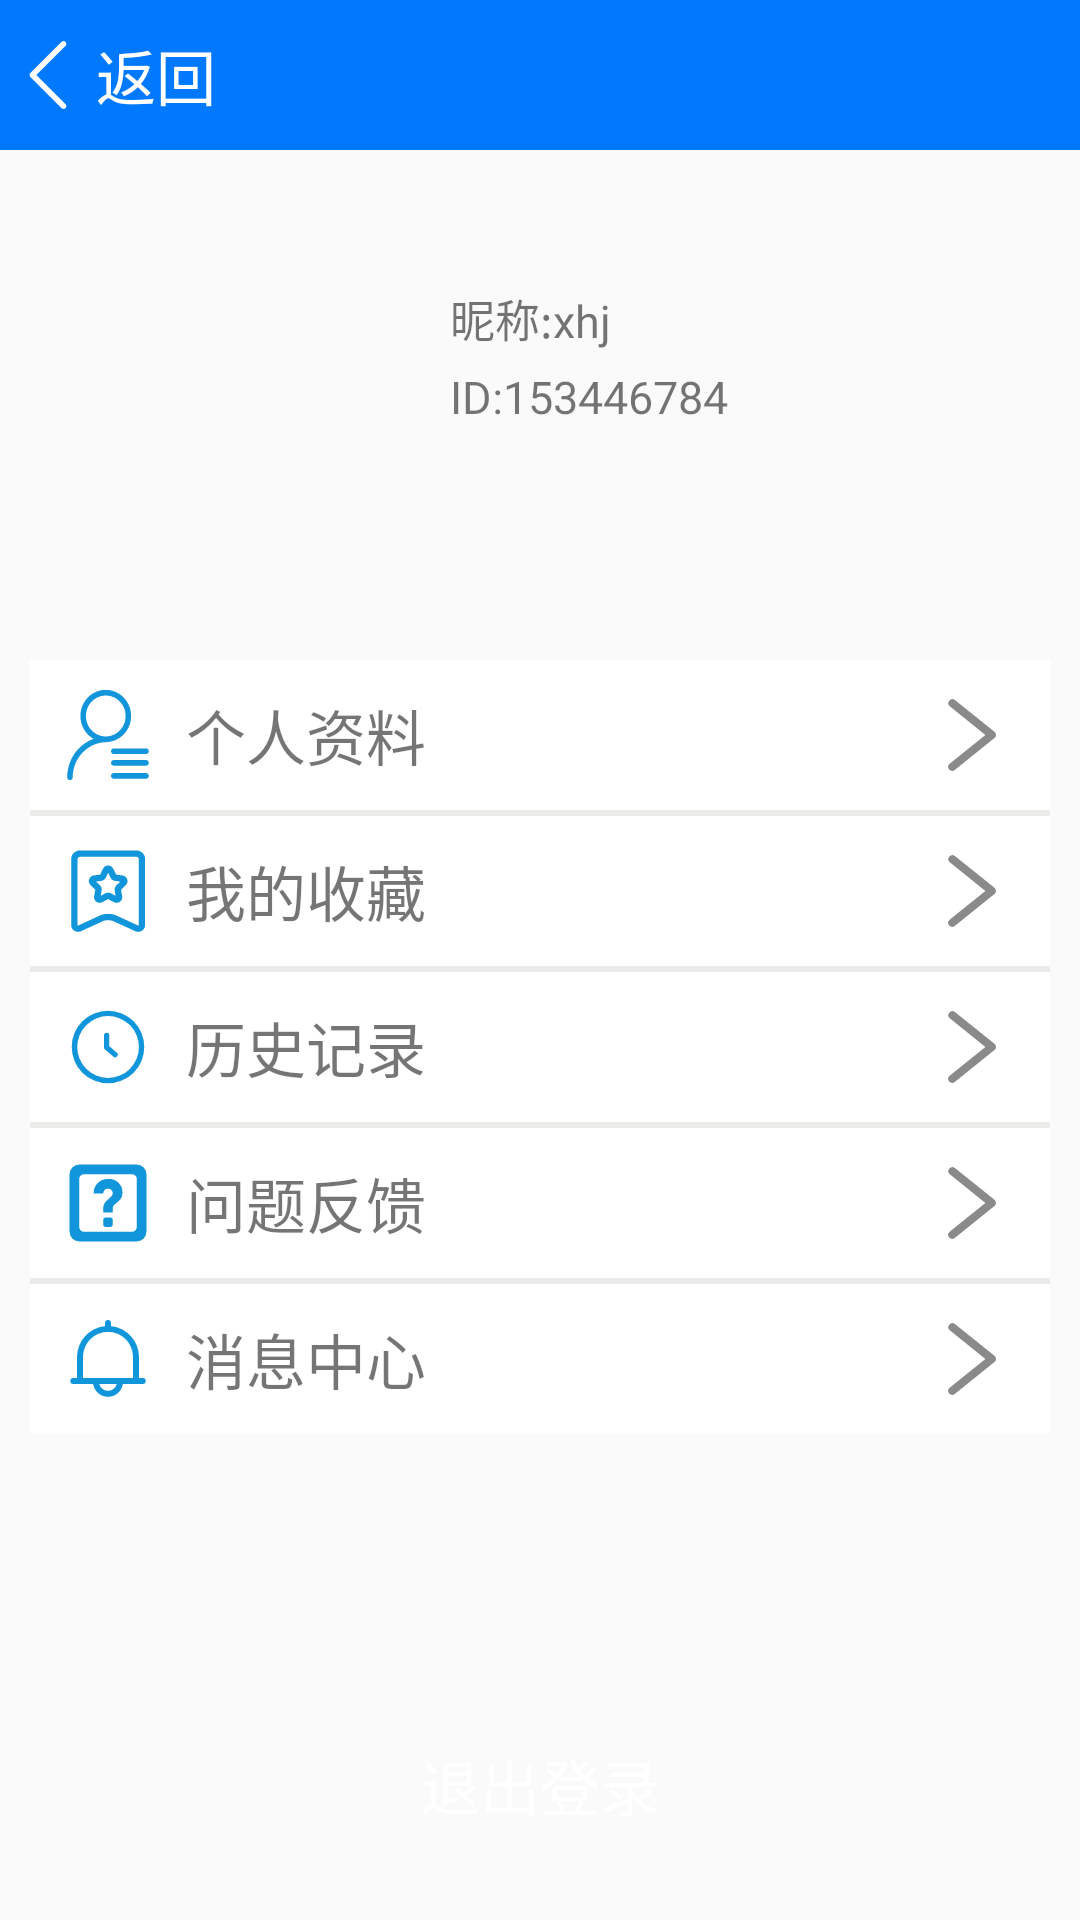

Icons on this 1080 x 1920 Android screen, each with its box as [x1=x1, y1=y1, x2=x2, y2=y2]:
left arrow: [x1=29, y1=41, x2=67, y2=109]
mine collect: [x1=71, y1=850, x2=145, y2=932]
mine feedback: [x1=69, y1=1164, x2=147, y2=1242]
mine history: [x1=71, y1=1010, x2=145, y2=1084]
mine info: [x1=67, y1=689, x2=149, y2=780]
mine message: [x1=70, y1=1320, x2=146, y2=1397]
right arrow: [x1=948, y1=699, x2=996, y2=771], [x1=948, y1=855, x2=996, y2=927], [x1=948, y1=1011, x2=996, y2=1083], [x1=948, y1=1167, x2=996, y2=1239], [x1=948, y1=1323, x2=996, y2=1395]
